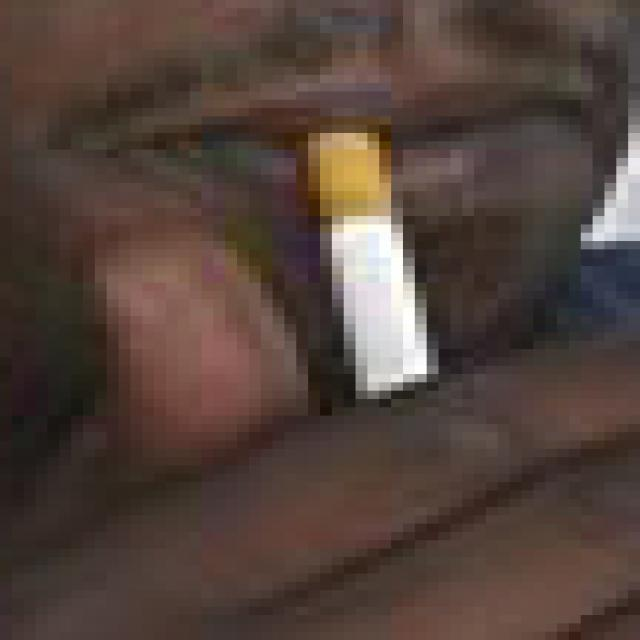smoking: (304, 130, 437, 399)
